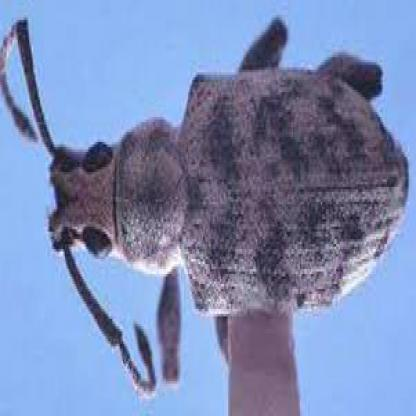ash weevil: (1, 13, 412, 398)
